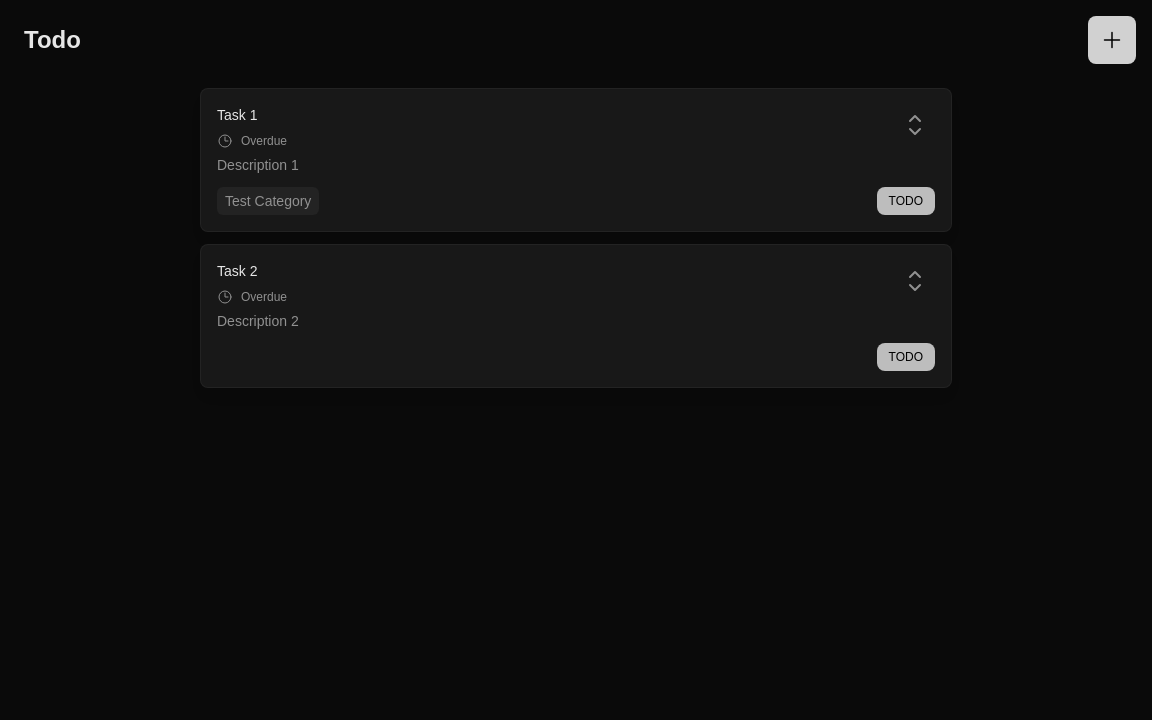
Scenario: TaskColumn › opens task creation modal when clicking add button
Click the 1st button named "add task" at (1112, 40), box left=1088, top=16, right=1136, bottom=64
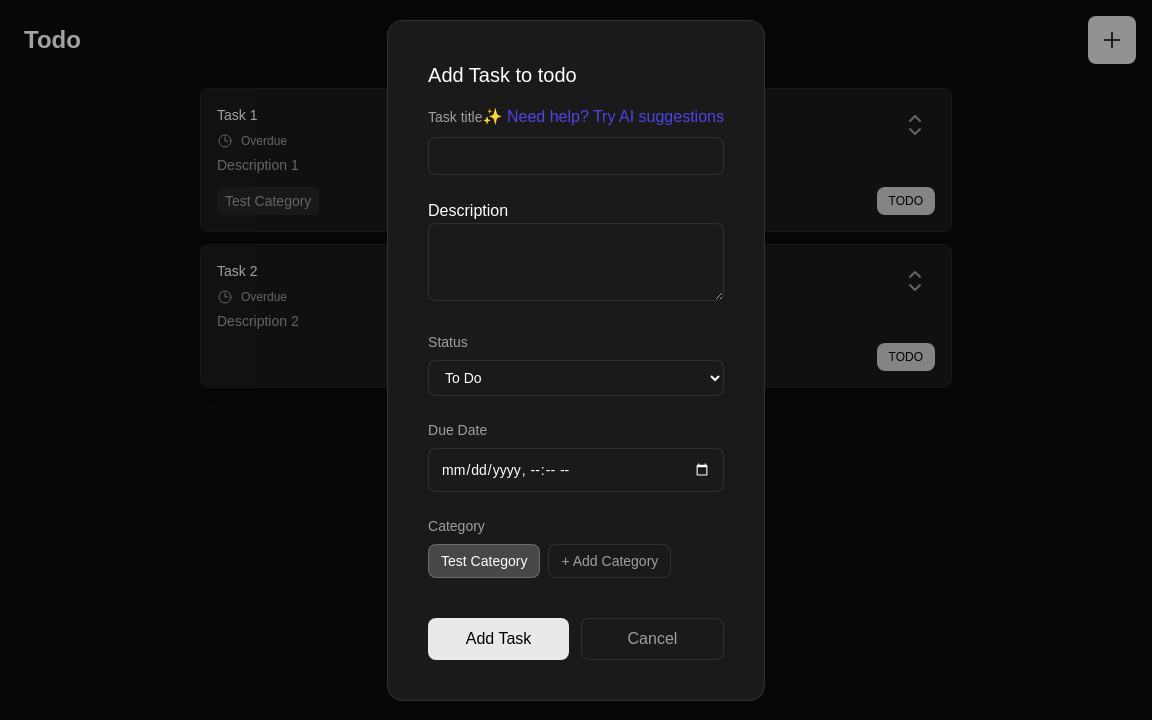
Now the heading "Add Task to todo" is shown, box left=428, top=64, right=577, bottom=86
